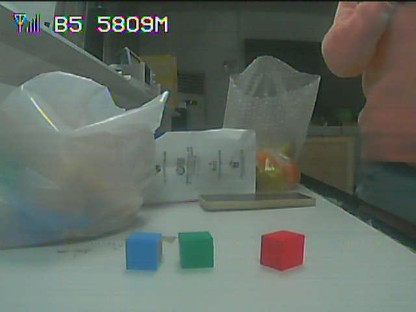b: (127, 234, 159, 267)
g: (178, 234, 212, 268)
r: (263, 230, 303, 266)
